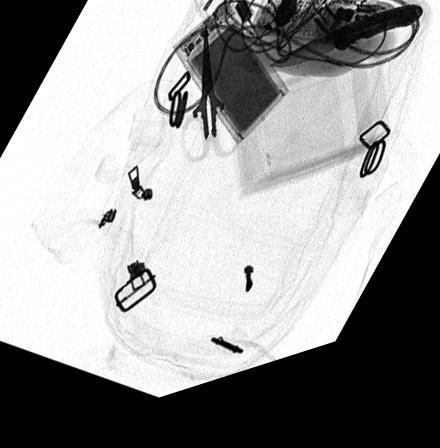Knife: (270, 28, 423, 86)
Powerbank: (172, 11, 290, 159)
Scissors: (181, 36, 244, 174)
